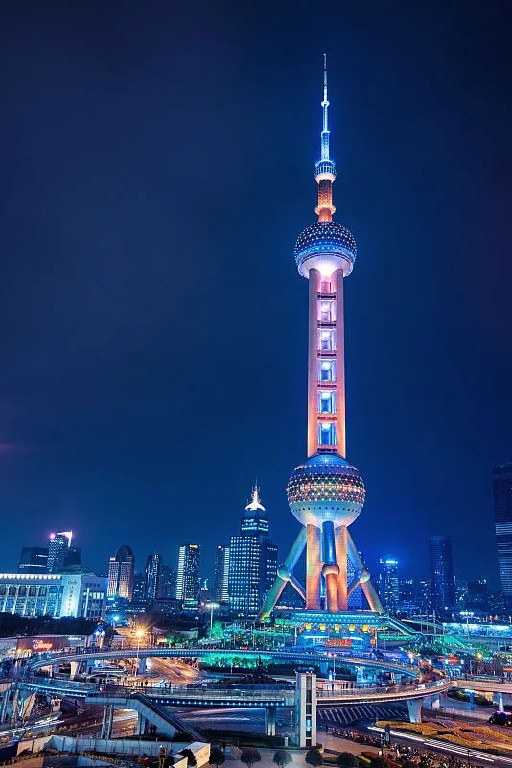Oriental: (261, 51, 382, 619)
